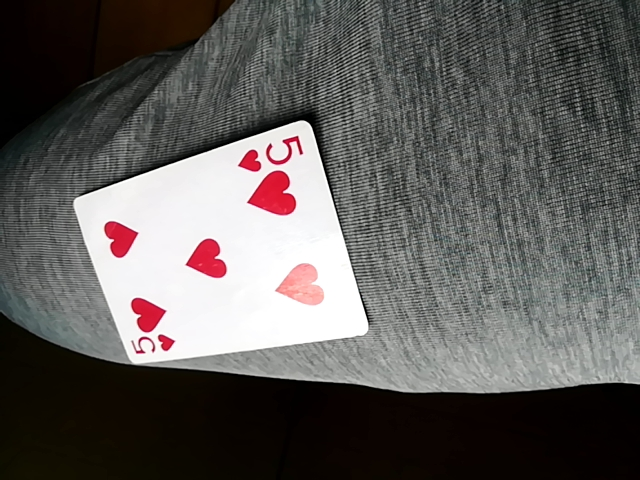hx 5: (74, 118, 363, 370)
